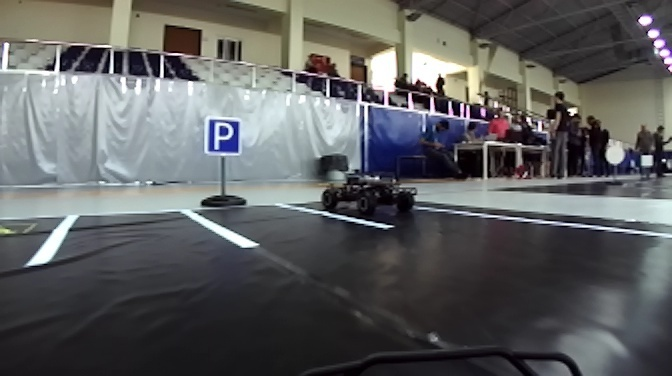park: (205, 115, 245, 158)
